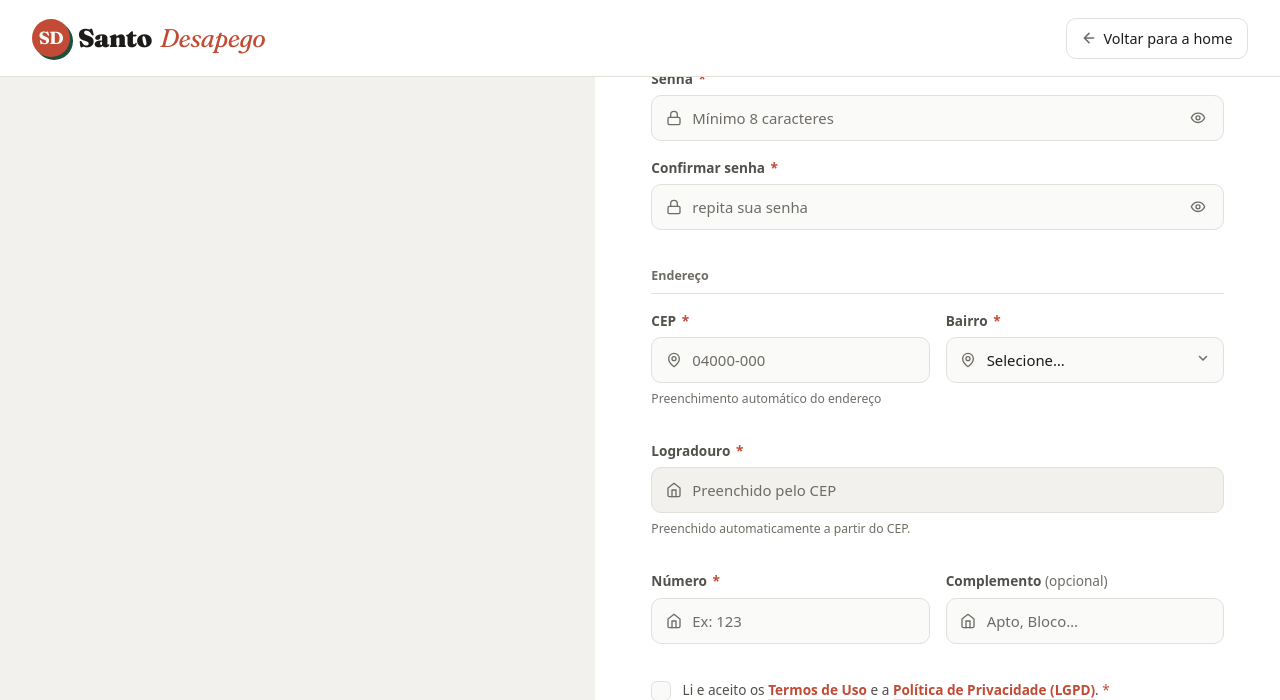
Test case: RF01 - Gestão de Perfil Geográfico › se a consulta de CEP falhar, pede para preencher o endereço à mão
(page scrolled)
Step 1. Type "04710150" into the field with placeholder "04000-000" → (790, 360), box [651,337,930,383]
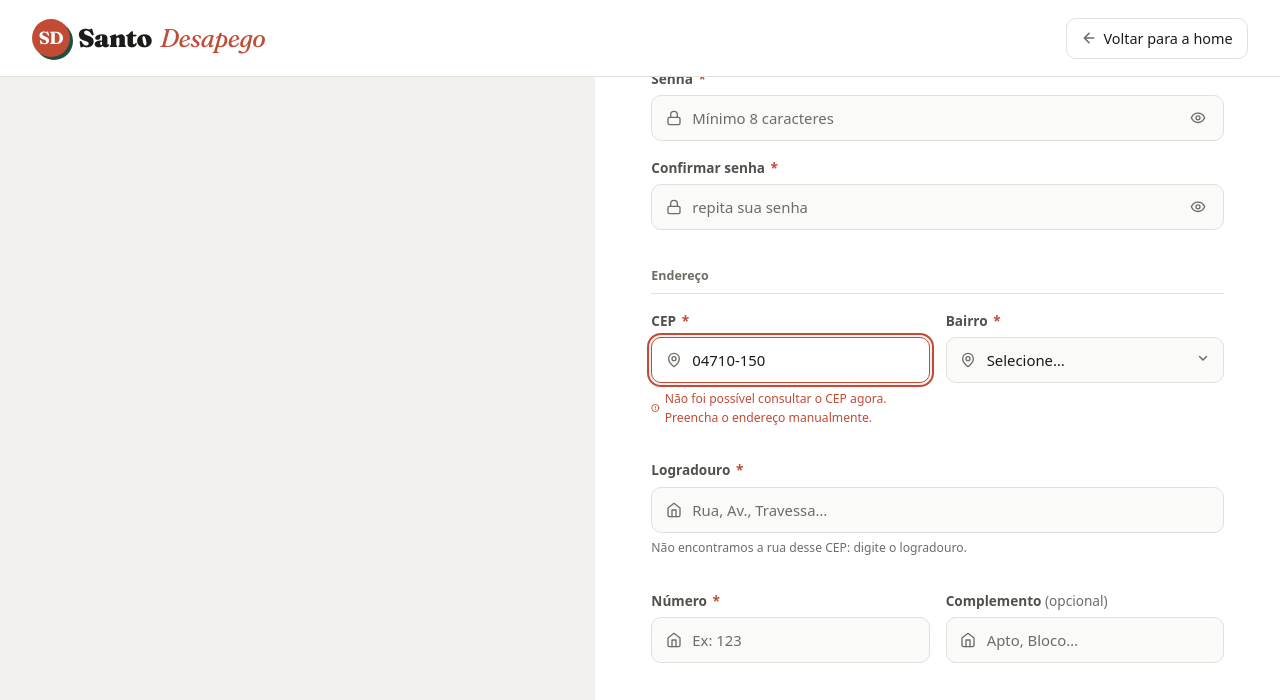
Expected: the text "Preencha o endereço manualmente" is shown, [665,390,887,426]
